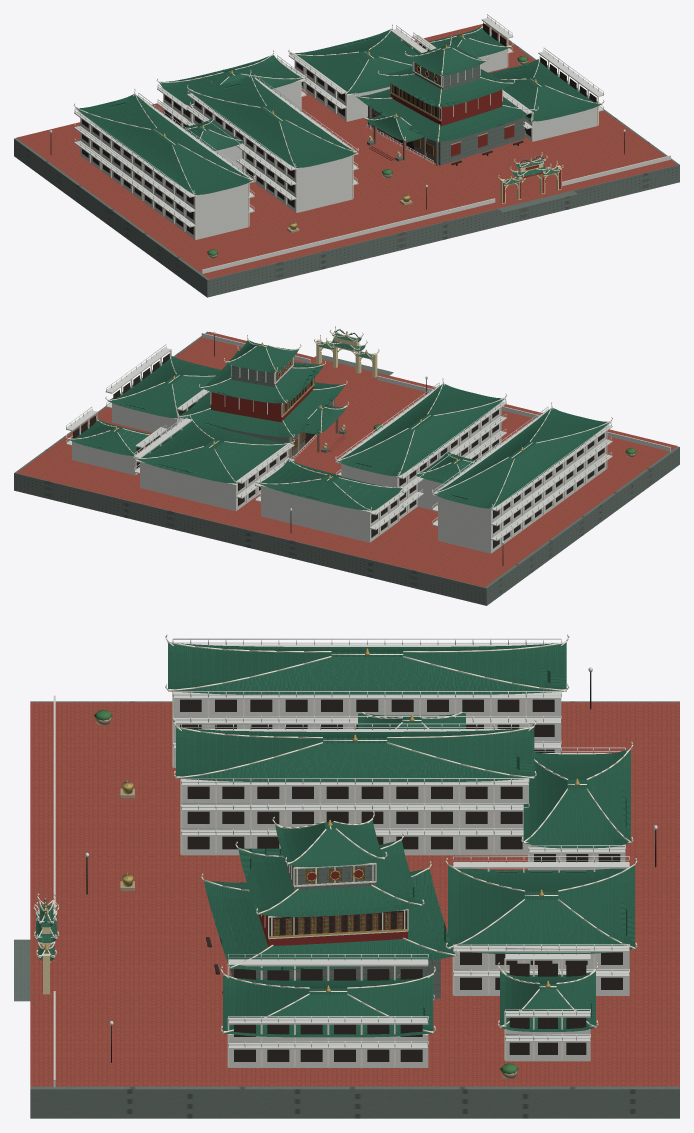
Rendered from ba-chua-xu.glb.
3 views of the same model, one above another, from view 1: azimuth 30°, elevation 25°; view 2: azimuth 150°, elevation 25°; view 3: azimuth 270°, elevation 25° (orthographic). The views are drawn at different scales.
Visible parts, largest first — view 1: ba-chua-xu-near; view 2: ba-chua-xu-near; view 3: ba-chua-xu-near.
Part boxes in pixels (x1=…): ba-chua-xu-near: x1=14, y1=14, x2=679, y2=297; ba-chua-xu-near: x1=14, y1=326, x2=679, y2=605; ba-chua-xu-near: x1=14, y1=634, x2=679, y2=1118.
Size of the model in its own units: 113 by 24.54 by 82.
Materials: 1 (1 with a texture image).
